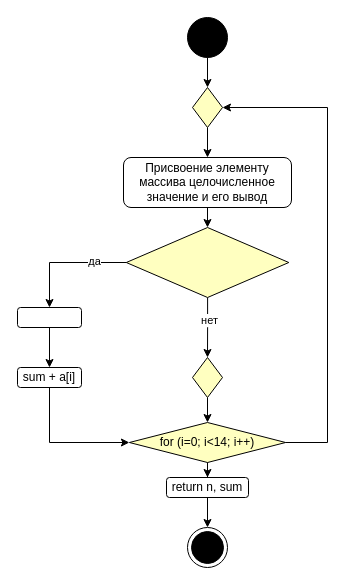
This 353x585 diagram has some shape labels left out. The centre of each missing label's shape, as x and y in pixels:
a[i] mod 2 =0 && a[i] >0: (x=207, y=262)
n++: (x=49, y=317)
